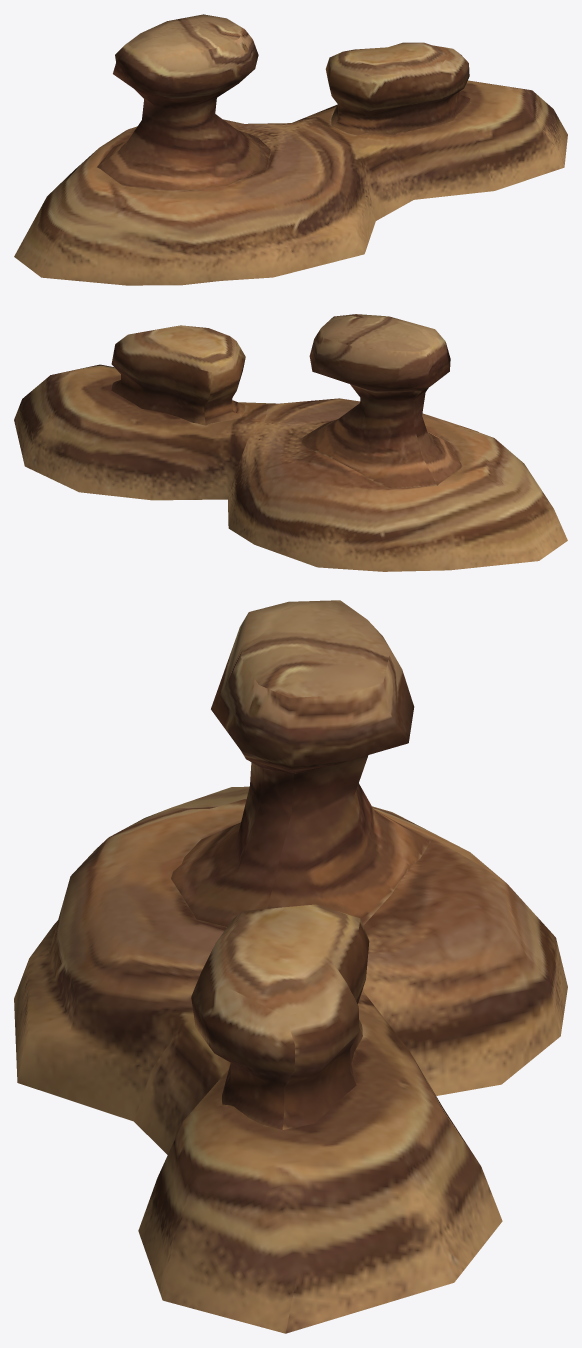
File: shitou05.FBX
3 renders of one model, top to bottom at view 1: azimuth 30°, elevation 25°; view 2: azimuth 150°, elevation 25°; view 3: azimuth 270°, elevation 25°, orthographic. The views are drawn at different scales.
Parts seen in each view (by area): view 1: shitou05; view 2: shitou05; view 3: shitou05.
Boxes of the visible parts, x1,y1,x2,y2 form: shitou05: (14,14,567,285); shitou05: (14,314,567,571); shitou05: (14,600,567,1333).
Size of the model in its own units: 448 by 150 by 212.
